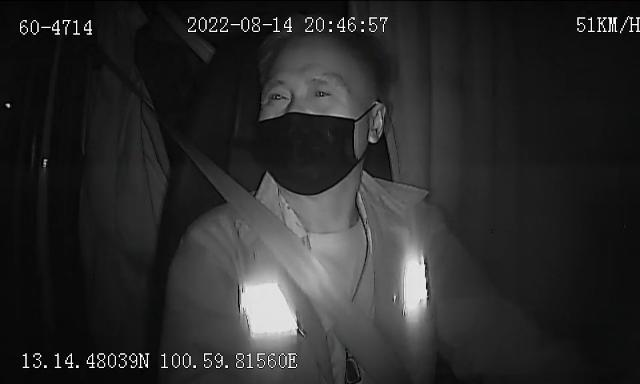SafeDriving: (263, 82, 294, 107), (308, 82, 340, 102)
Seatbelt: (204, 132, 436, 384)
